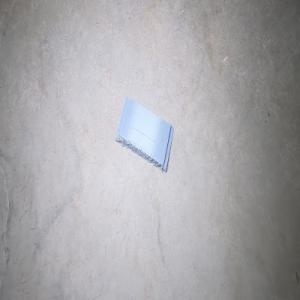PlasticPart: (114, 96, 174, 173)
